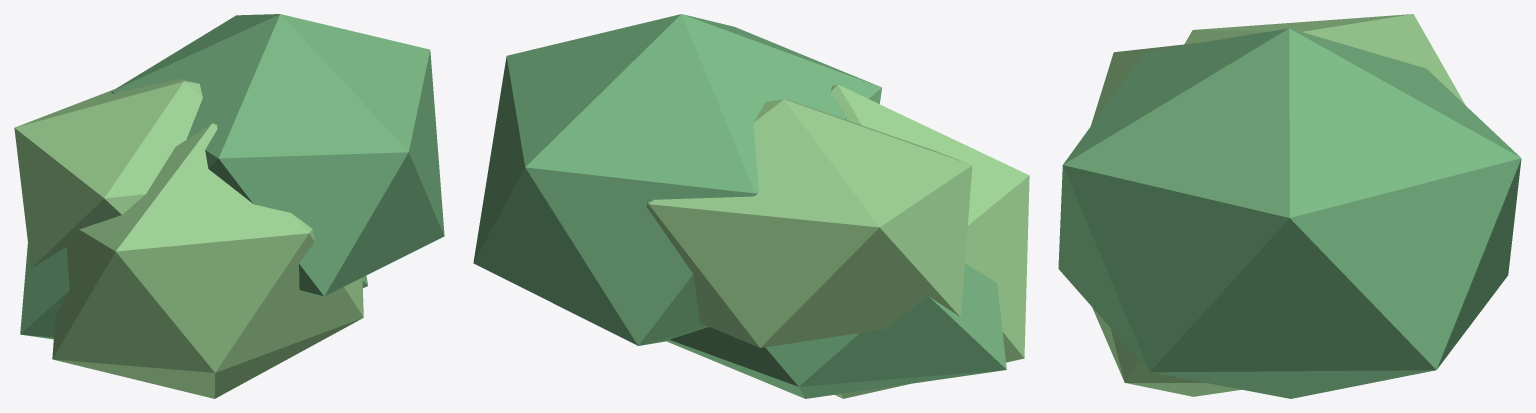
File: bush_01.glb
3 views of the same model, side by side, from view 1: azimuth 30°, elevation 25°; view 2: azimuth 150°, elevation 25°; view 3: azimuth 270°, elevation 25° (orthographic). The views are drawn at different scales.
Visible parts, largest first — view 1: bush_01; view 2: bush_01; view 3: bush_01.
Boxes of the visible parts, x1,y1,x2,y2 form: bush_01: (14,14,444,398); bush_01: (473,14,1029,398); bush_01: (1058,14,1521,398).
Bounding box in the file's own units: 1.25 × 0.9478 × 0.9174.
